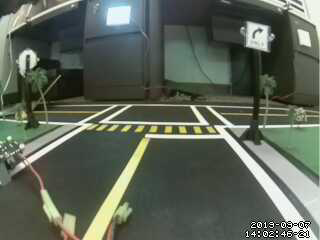Right_only_sign: (241, 21, 277, 55)
